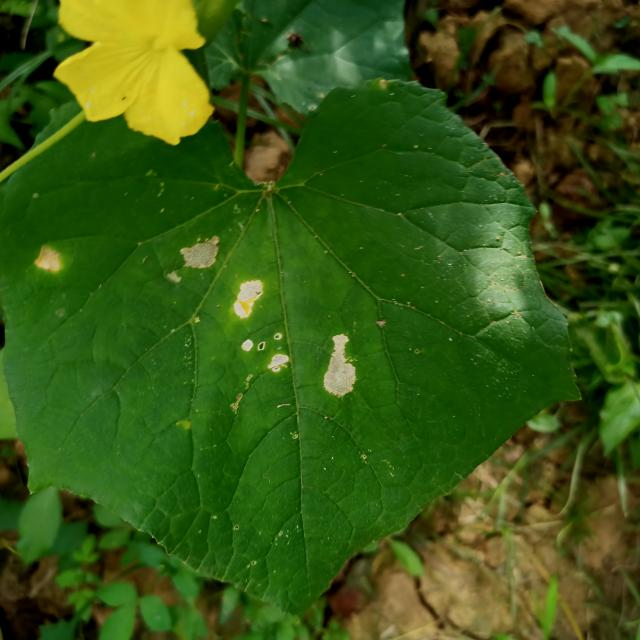disease_cucumber: (174, 235, 357, 400), (33, 245, 64, 272)
